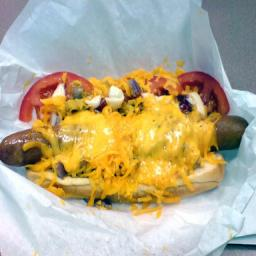hotdog: (0, 111, 68, 176), (199, 115, 256, 153)
